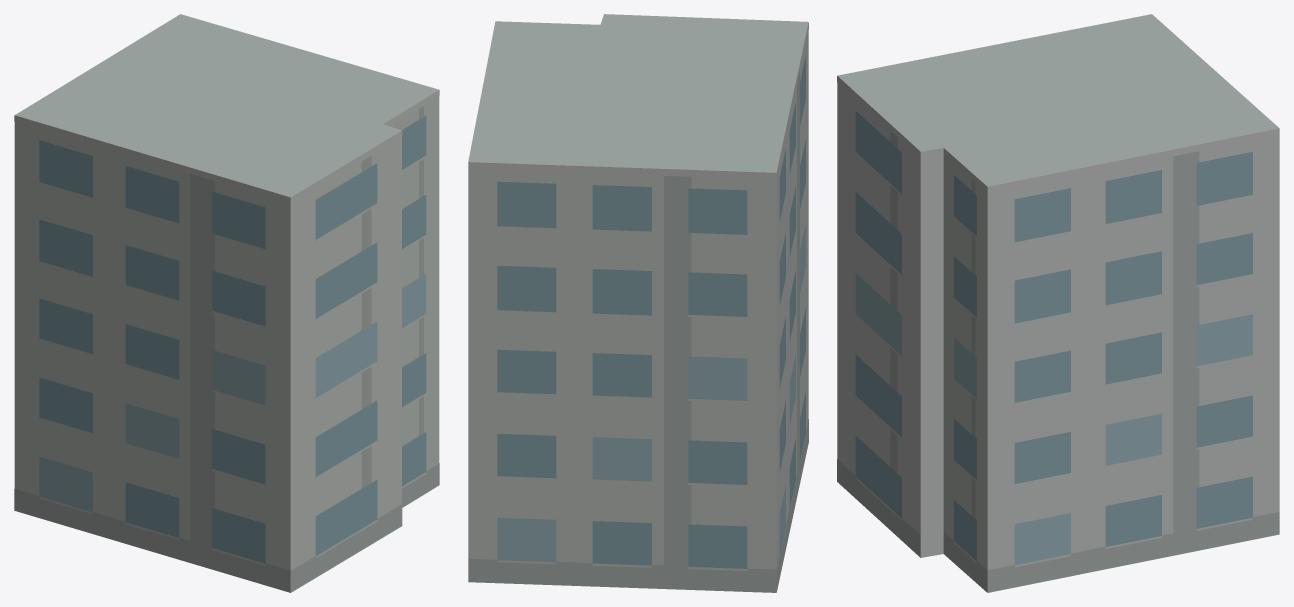
Rendered from survey-upis-32743663.glb.
3 views of the same model, side by side, from view 1: azimuth 30°, elevation 25°; view 2: azimuth 150°, elevation 25°; view 3: azimuth 270°, elevation 25° (orthographic). The views are drawn at different scales.
Visible parts, largest first — view 1: survey-upis-32743663.tmp; view 2: survey-upis-32743663.tmp; view 3: survey-upis-32743663.tmp.
Boxes of the visible parts, box(x1,y1,x2,y2) form: survey-upis-32743663.tmp: box(14, 14, 439, 592); survey-upis-32743663.tmp: box(468, 14, 808, 592); survey-upis-32743663.tmp: box(837, 14, 1279, 592).
Size of the model in its own units: 13.42 by 14.7 by 14.53.
